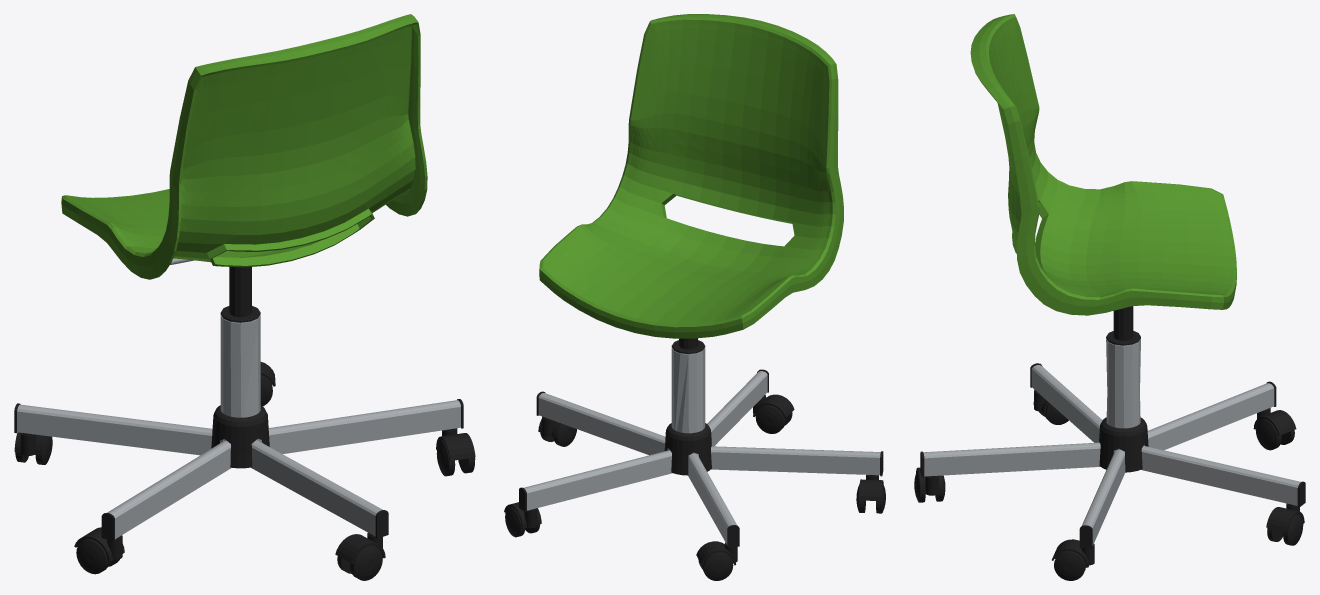
3 views of the same model, side by side, from view 1: azimuth 30°, elevation 25°; view 2: azimuth 150°, elevation 25°; view 3: azimuth 270°, elevation 25° (orthographic). The views are drawn at different scales.
Parts seen in each view (by area): view 1: Mesh2 Group2 SNILLE_IKEA1 Model, Mesh8 Group6 SNILLE_IKEA1 Model, Mesh7 Group5 SNILLE_IKEA1 Model, Mesh1 Group1 SNILLE_IKEA1 Model, Mesh3 Group3 SNILLE_IKEA1 Model, Mesh20 ROULETTE4 SNILLE_IKEA1 Model, Mesh14 ROULETTE2 SNILLE_IKEA1 Model, Mesh15 ROULETTE3 SNILLE_IKEA1 Model, Mesh12 ROULETTE2 SNILLE_IKEA1 Model, Mesh18 ROULETTE4 SNILLE_IKEA1 Model, Mesh9 ROULETTE1 SNILLE_IKEA1 Model; view 2: Mesh2 Group2 SNILLE_IKEA1 Model, Mesh8 Group6 SNILLE_IKEA1 Model, Mesh7 Group5 SNILLE_IKEA1 Model, Mesh1 Group1 SNILLE_IKEA1 Model, Mesh11 ROULETTE1 SNILLE_IKEA1 Model, Mesh13 ROULETTE2 SNILLE_IKEA1 Model, Mesh18 ROULETTE4 SNILLE_IKEA1 Model, Mesh9 ROULETTE1 SNILLE_IKEA1 Model, Mesh12 ROULETTE2 SNILLE_IKEA1 Model; view 3: Mesh2 Group2 SNILLE_IKEA1 Model, Mesh8 Group6 SNILLE_IKEA1 Model, Mesh7 Group5 SNILLE_IKEA1 Model, Mesh1 Group1 SNILLE_IKEA1 Model, Mesh3 Group3 SNILLE_IKEA1 Model, Mesh17 ROULETTE3 SNILLE_IKEA1 Model, Mesh21 ROULETTE5 SNILLE_IKEA1 Model, Mesh9 ROULETTE1 SNILLE_IKEA1 Model, Mesh10 ROULETTE1 SNILLE_IKEA1 Model, Mesh15 ROULETTE3 SNILLE_IKEA1 Model, Mesh12 ROULETTE2 SNILLE_IKEA1 Model.
Boxes of the visible parts, x1,y1,x2,y2 form: Mesh2 Group2 SNILLE_IKEA1 Model: (61,14,427,279); Mesh8 Group6 SNILLE_IKEA1 Model: (14,399,463,541); Mesh7 Group5 SNILLE_IKEA1 Model: (220,315,260,417); Mesh1 Group1 SNILLE_IKEA1 Model: (211,405,269,468); Mesh3 Group3 SNILLE_IKEA1 Model: (220,267,260,322); Mesh20 ROULETTE4 SNILLE_IKEA1 Model: (76,538,109,574); Mesh14 ROULETTE2 SNILLE_IKEA1 Model: (350,545,382,580); Mesh15 ROULETTE3 SNILLE_IKEA1 Model: (436,428,475,460); Mesh12 ROULETTE2 SNILLE_IKEA1 Model: (335,533,385,563); Mesh18 ROULETTE4 SNILLE_IKEA1 Model: (74,527,124,561); Mesh9 ROULETTE1 SNILLE_IKEA1 Model: (14,432,43,455); Mesh2 Group2 SNILLE_IKEA1 Model: (539,14,843,338); Mesh8 Group6 SNILLE_IKEA1 Model: (519,369,883,547); Mesh7 Group5 SNILLE_IKEA1 Model: (671,348,705,433); Mesh1 Group1 SNILLE_IKEA1 Model: (664,423,711,475); Mesh11 ROULETTE1 SNILLE_IKEA1 Model: (702,552,733,580); Mesh13 ROULETTE2 SNILLE_IKEA1 Model: (755,405,785,433); Mesh18 ROULETTE4 SNILLE_IKEA1 Model: (858,475,883,501); Mesh9 ROULETTE1 SNILLE_IKEA1 Model: (696,541,737,565); Mesh12 ROULETTE2 SNILLE_IKEA1 Model: (753,394,794,418); Mesh2 Group2 SNILLE_IKEA1 Model: (970,14,1236,315); Mesh8 Group6 SNILLE_IKEA1 Model: (920,363,1305,548); Mesh7 Group5 SNILLE_IKEA1 Model: (1106,339,1140,428); Mesh1 Group1 SNILLE_IKEA1 Model: (1099,417,1148,472); Mesh3 Group3 SNILLE_IKEA1 Model: (1106,306,1140,345); Mesh17 ROULETTE3 SNILLE_IKEA1 Model: (1054,551,1085,580); Mesh21 ROULETTE5 SNILLE_IKEA1 Model: (1266,503,1304,532); Mesh9 ROULETTE1 SNILLE_IKEA1 Model: (1253,408,1296,435); Mesh10 ROULETTE1 SNILLE_IKEA1 Model: (1255,419,1281,450); Mesh15 ROULETTE3 SNILLE_IKEA1 Model: (1052,539,1094,567); Mesh12 ROULETTE2 SNILLE_IKEA1 Model: (916,467,943,495).
Bounding box in the file's own units: 0.5972 × 0.7318 × 0.5806.
